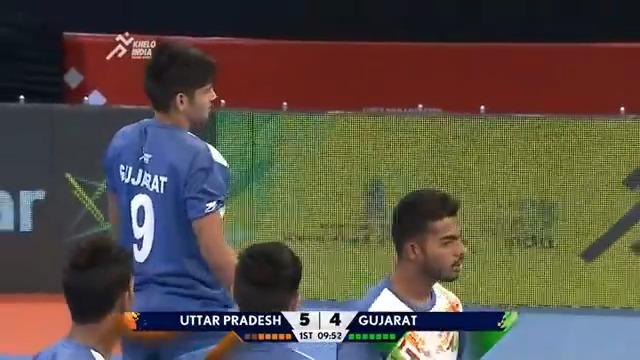Player: (101, 41, 241, 357), (334, 187, 517, 359)
